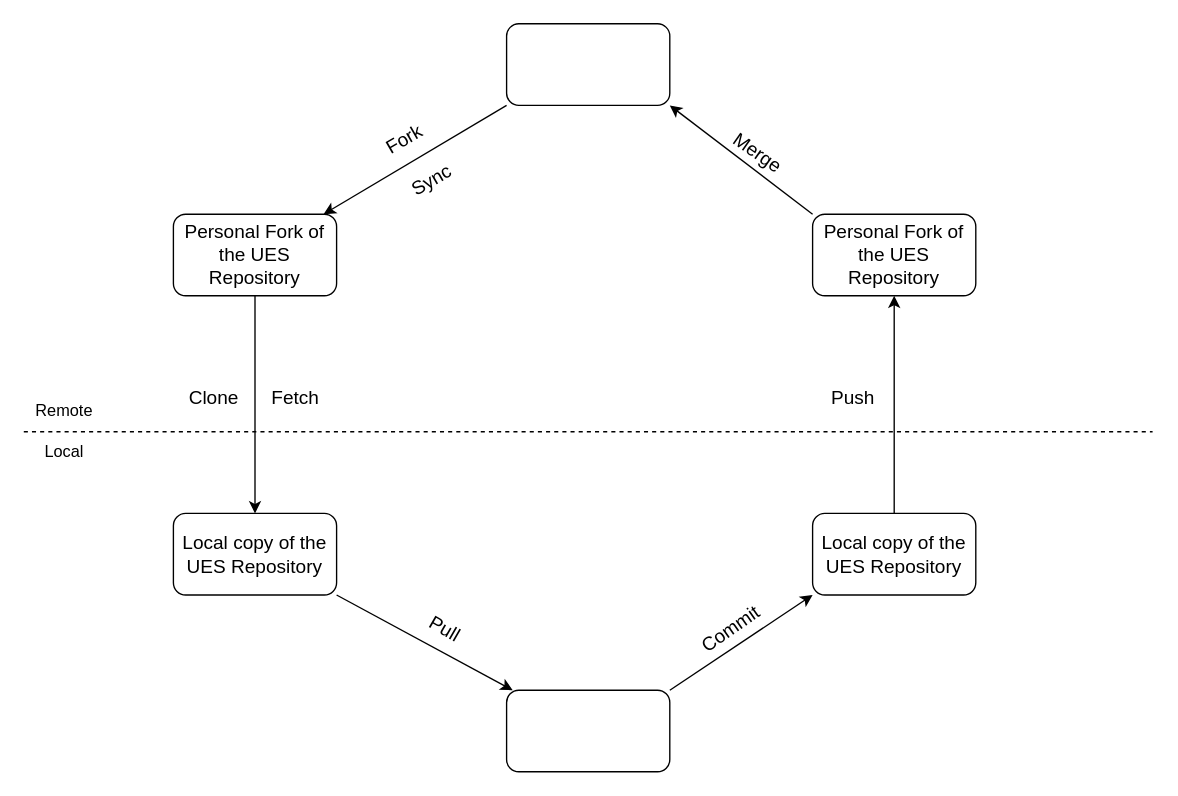
This 1178x796 diagram has some shape labels left out. The box of each missing label's shape, as (x1, y1, x2, y2) in pixels:
Code Editor: (505, 689, 670, 772)
Public UES Repository: (505, 22, 670, 105)
